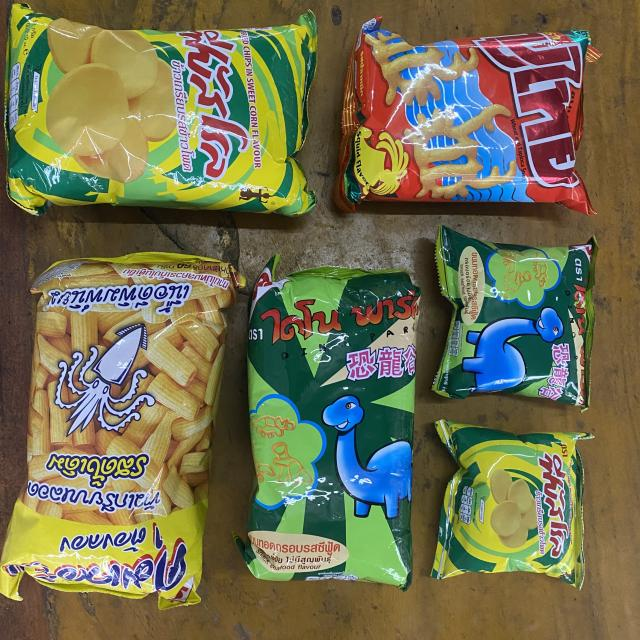plastik: (0, 252, 245, 609), (5, 4, 318, 215), (239, 255, 420, 589), (334, 18, 600, 215), (432, 226, 598, 410), (431, 420, 592, 589)
